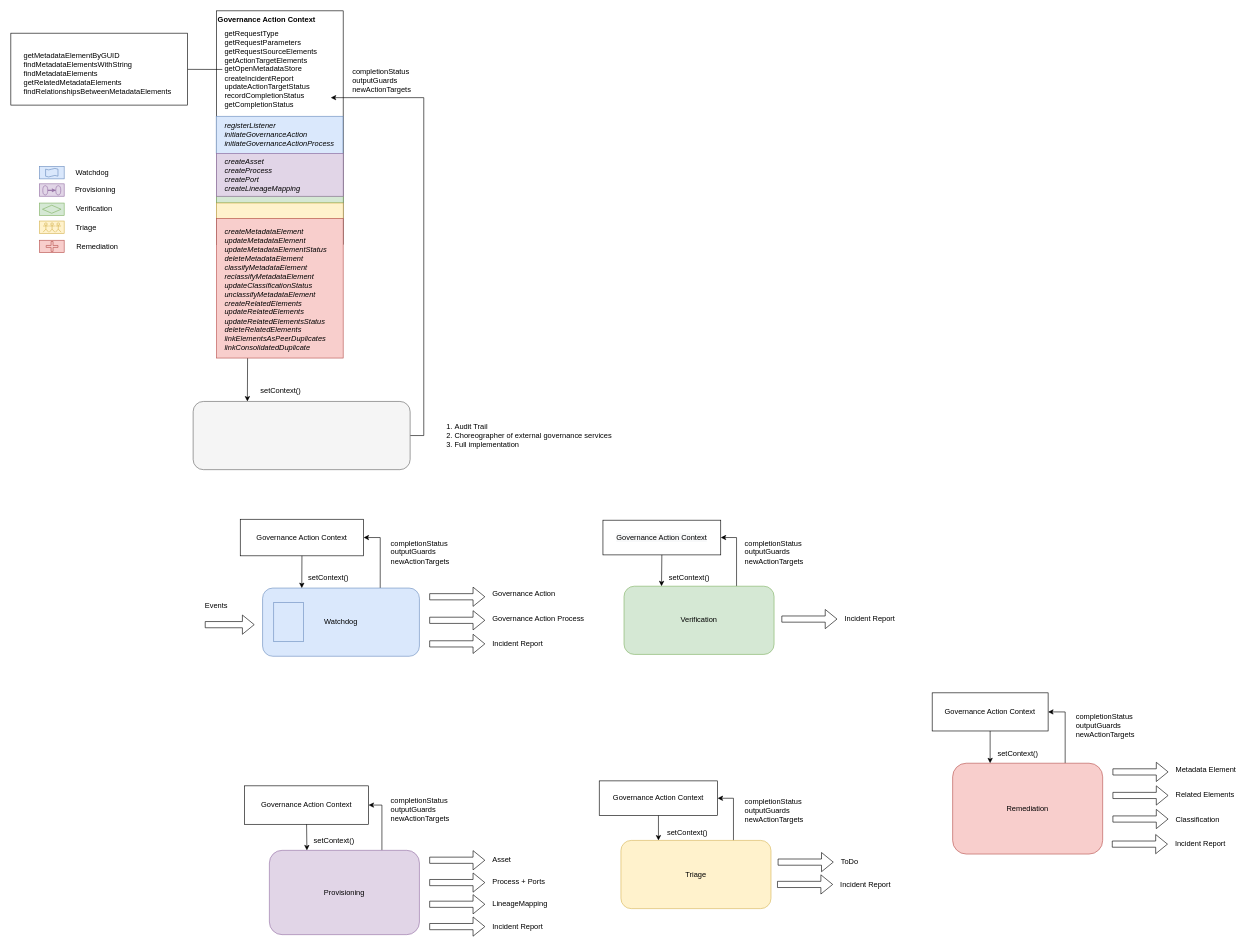
Some shapes in this 1252 by 947 pixel diagram are drawn without their labels. Each missing label, with the box of its shape:
createToDo: (216, 202, 343, 219)
Governance Action Service: (193, 401, 410, 470)
Listener: (273, 602, 303, 642)
OpenMetadataStore: (10, 33, 188, 105)
